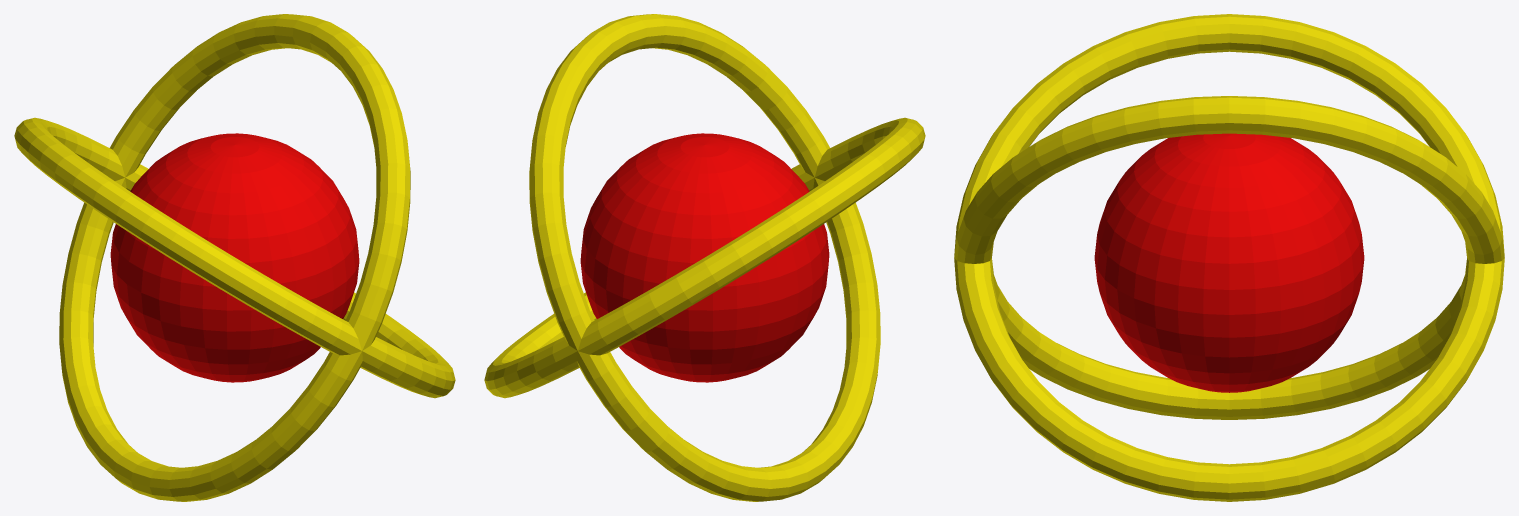
File: oxygen.gltf
The picture shows the model from 3 angles, left to right: view 1: azimuth 30°, elevation 25°; view 2: azimuth 150°, elevation 25°; view 3: azimuth 270°, elevation 25°; orthographic projection. The views are drawn at different scales.
Visible parts, largest first — view 1: Sphere, Torus, Torus.001; view 2: Sphere, Torus, Torus.001; view 3: Sphere, Torus.001, Torus.
Part boxes in pixels (x1,y1,x2,y2): Sphere: (110,133,359,382); Torus: (59,14,410,501); Torus.001: (14,117,455,398); Sphere: (580,133,829,382); Torus: (529,14,880,501); Torus.001: (484,117,925,398); Sphere: (1094,133,1364,392); Torus.001: (954,14,1504,501); Torus: (954,96,1504,419).
Bounding box in the file's own units: 3.34 × 3.54 × 4.08.
